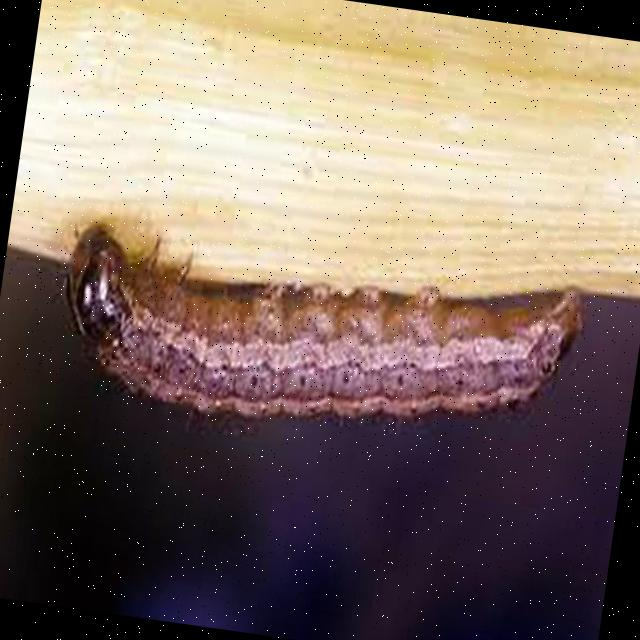worm: (45, 217, 591, 472)
